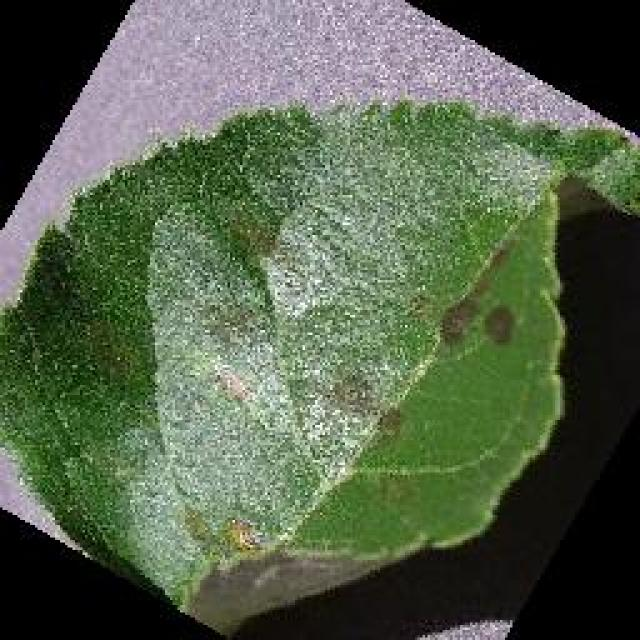apple scab disease: (0, 92, 638, 632)
